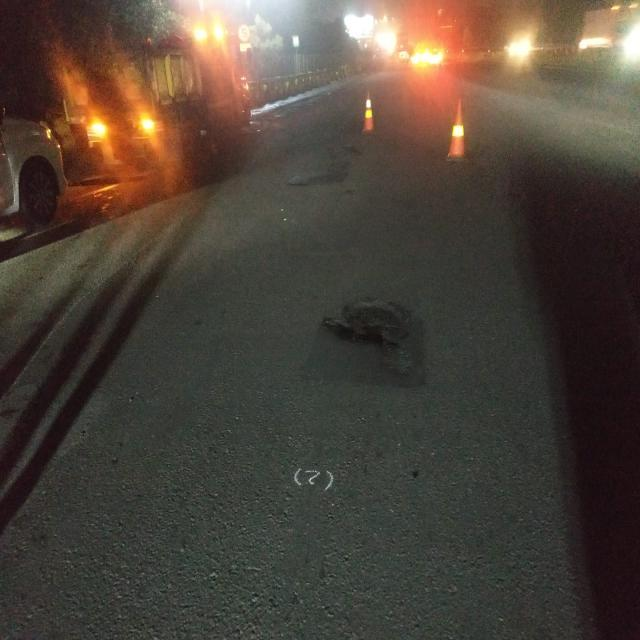Buraco: (317, 295, 417, 380), (337, 141, 363, 160), (284, 172, 312, 188)
